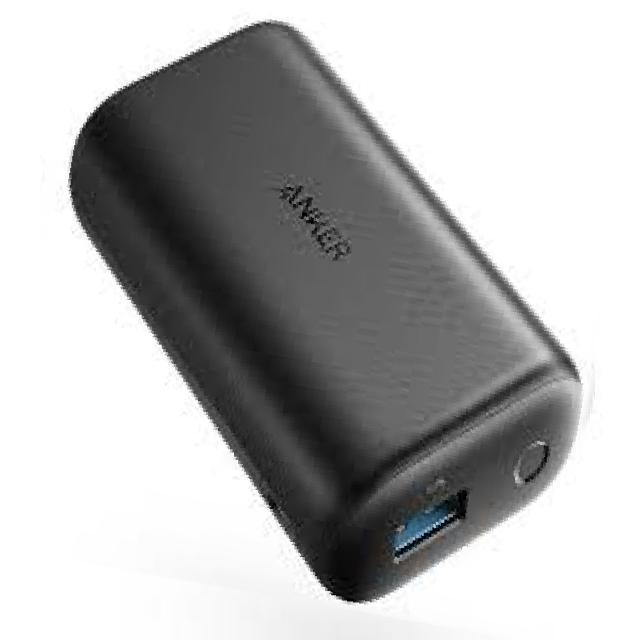Battery: (61, 14, 630, 602)
